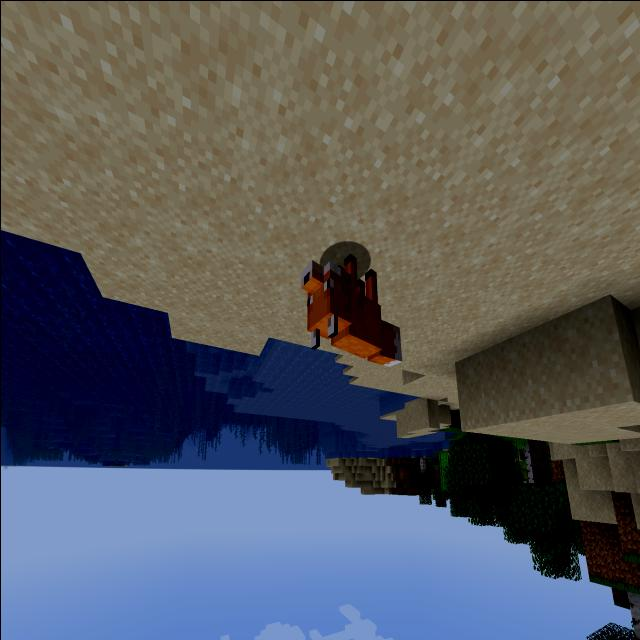Fox: (300, 248, 408, 372)
